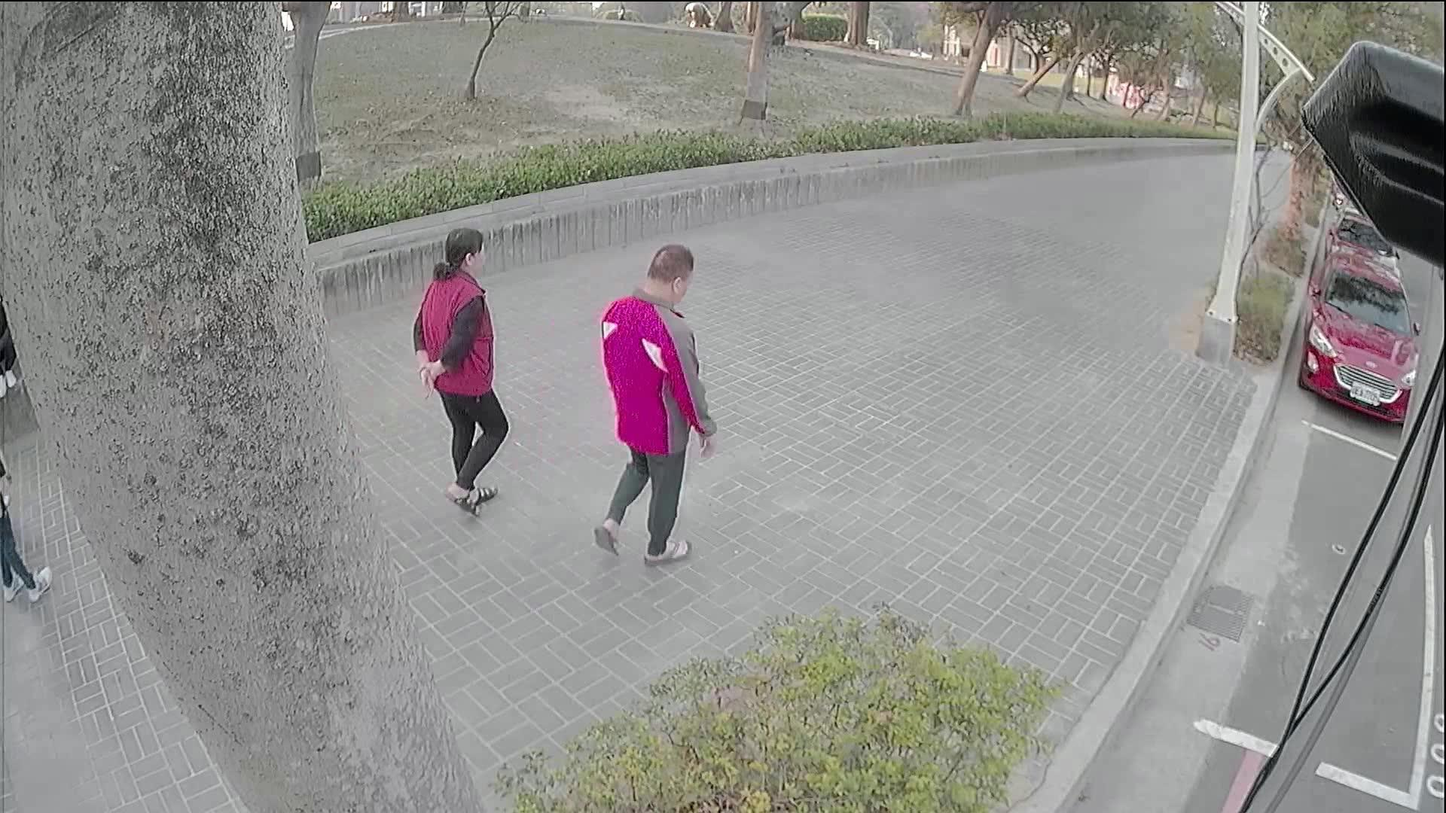person: (584, 242, 715, 576), (410, 226, 510, 510), (0, 441, 47, 608)
